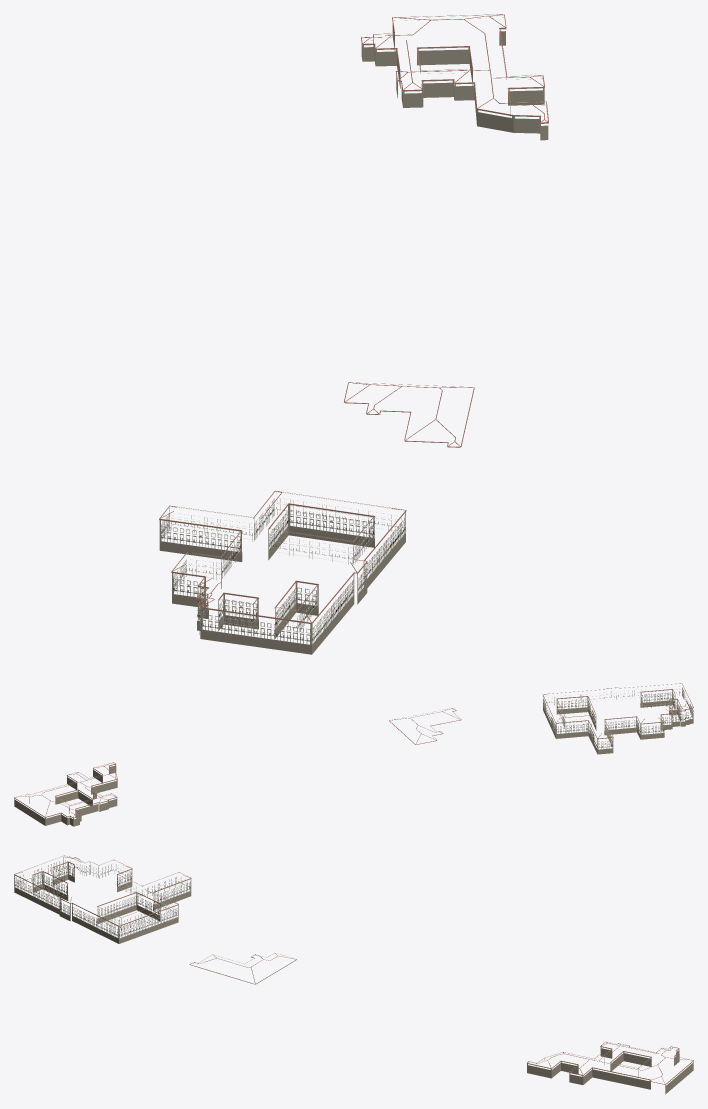
3 renders of one model, top to bottom at view 1: azimuth 30°, elevation 25°; view 2: azimuth 150°, elevation 25°; view 3: azimuth 270°, elevation 25°, orthographic. The views are drawn at different scales.
Parts seen in each view (by area): view 1: detail; view 2: detail; view 3: detail.
Boxes of the visible parts, box(x1,y1,x2,y2) form: detail: box(159, 14, 548, 654); detail: box(14, 683, 693, 826); detail: box(14, 855, 693, 1094).
Size of the model in its own units: 412 by 22.46 by 512.
